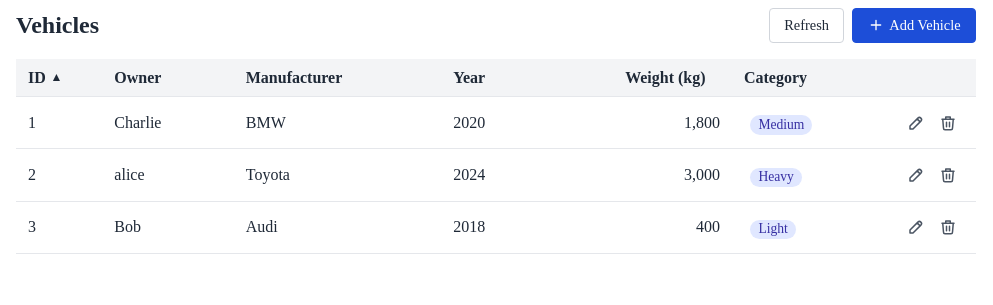
Test: VehicleListComponent actions › keeps the row and shows the error when delete fails
The width and height of the screenshot is (993, 305).
Click the button named "Delete vehicle 2 (alice)" at (948, 175), box [932,159,964,191]
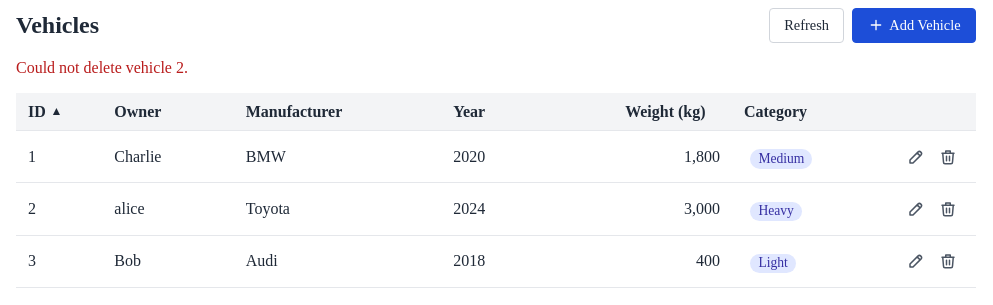
Result: the message "Could not delete vehicle 2." is shown at [16,59,188,76]
